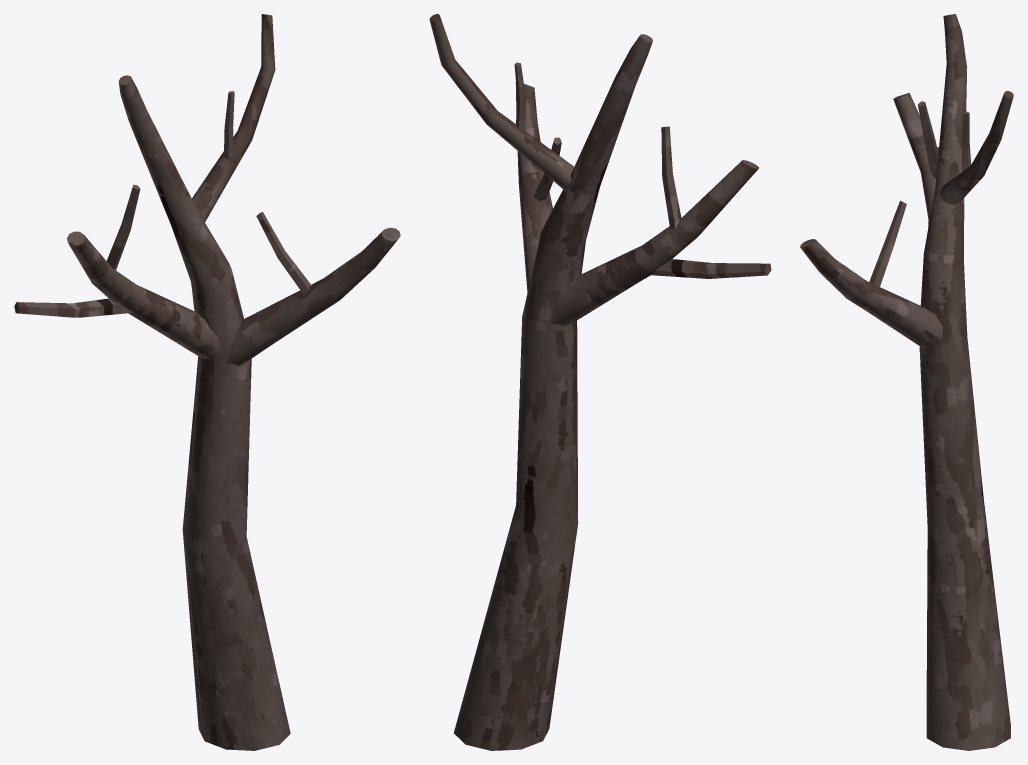
The model's file is deadtree_1.glb.
3 renders of one model, left to right at view 1: azimuth 30°, elevation 25°; view 2: azimuth 150°, elevation 25°; view 3: azimuth 270°, elevation 25°, orthographic. The views are drawn at different scales.
Visible parts, largest first — view 1: DeadTree_1; view 2: DeadTree_1; view 3: DeadTree_1.
Boxes of the visible parts, x1,y1,x2,y2 form: DeadTree_1: [14, 14, 400, 750]; DeadTree_1: [429, 14, 771, 750]; DeadTree_1: [800, 14, 1013, 750].
Bounding box in the file's own units: 2.44 × 5.17 × 1.52.
1 material, 1 textured.
